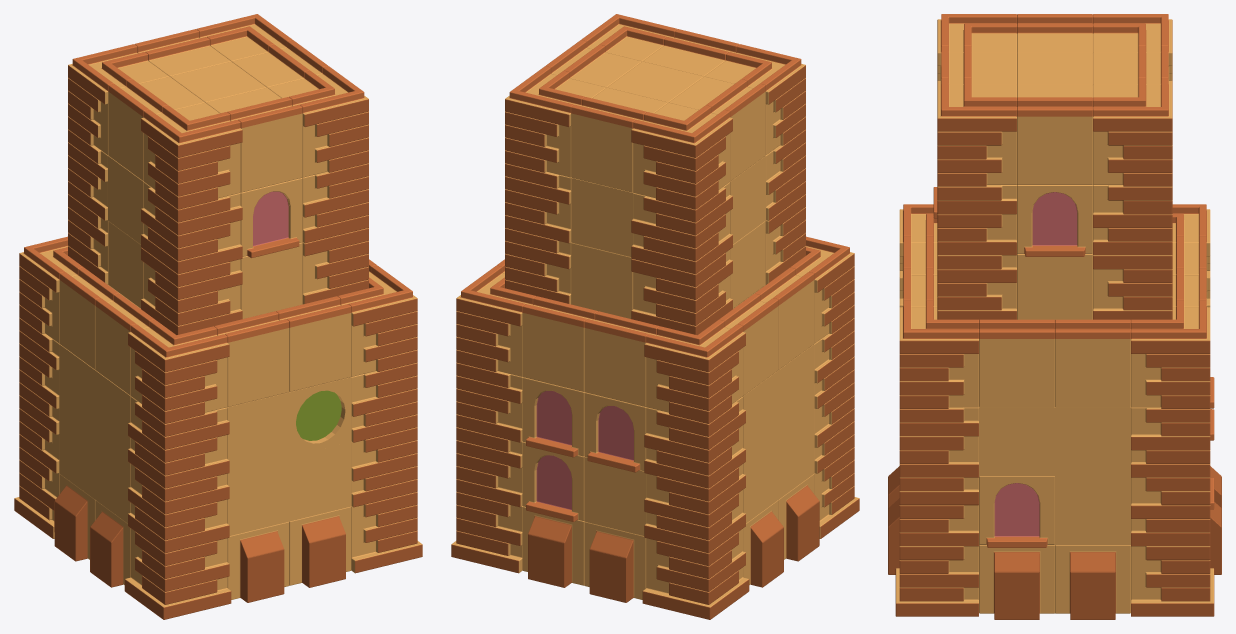
Rendered from house v3.018.fbx.
3 views of the same model, side by side, from view 1: azimuth 30°, elevation 25°; view 2: azimuth 150°, elevation 25°; view 3: azimuth 270°, elevation 25° (orthographic). The views are drawn at different scales.
Visible parts, largest first — view 1: House; view 2: House; view 3: House.
Part boxes in pixels (box(x1,y1,x2,y2)): House: box(14, 14, 422, 619); House: box(451, 14, 859, 619); House: box(888, 14, 1221, 619).
Bounding box in the file's own units: 440 × 710 × 440.
